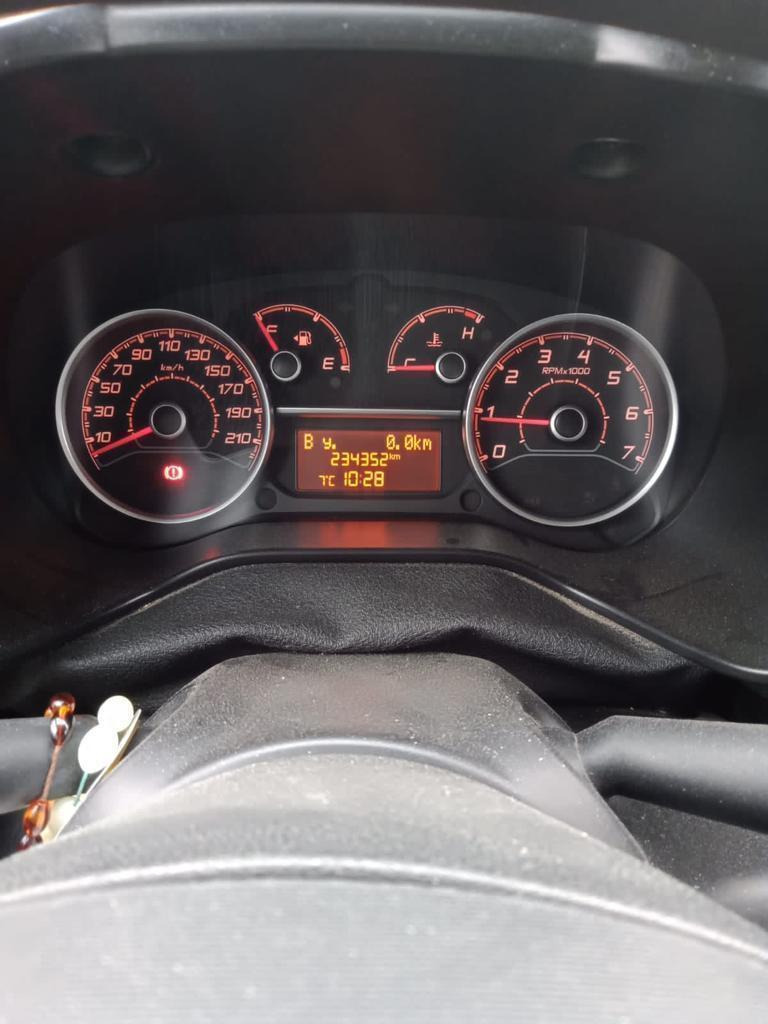,: (331, 442, 336, 450), (395, 443, 399, 450)
0: (347, 469, 358, 487), (385, 433, 395, 450), (403, 433, 413, 450)
1: (342, 470, 347, 486)
2: (329, 450, 340, 467), (362, 470, 373, 487), (379, 451, 388, 466)
3: (340, 450, 349, 467), (359, 450, 368, 467)
4: (350, 452, 359, 466)
5: (370, 450, 378, 467)
7: (317, 473, 325, 486)
8: (373, 470, 384, 487)
X: (302, 432, 314, 449), (413, 432, 421, 451), (321, 435, 331, 450), (422, 437, 432, 450), (328, 474, 335, 487), (393, 453, 400, 460), (359, 472, 362, 484), (389, 452, 393, 460)
odometer: (293, 427, 443, 493)
